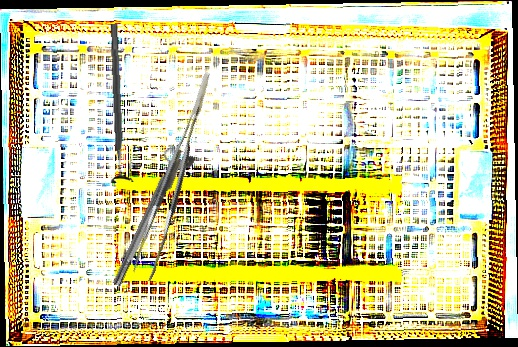Fixation Ring: (105, 146, 188, 289), (101, 23, 136, 184)
Tissue Forceps: (112, 71, 244, 282)
